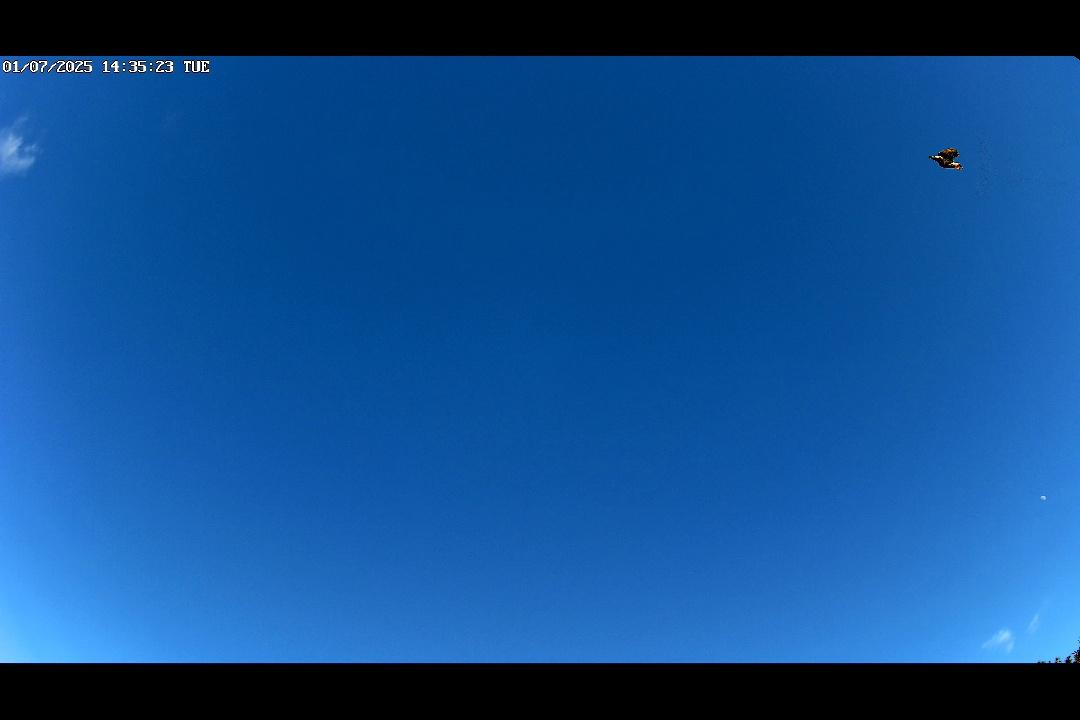WildLife: (909, 136, 992, 173)
